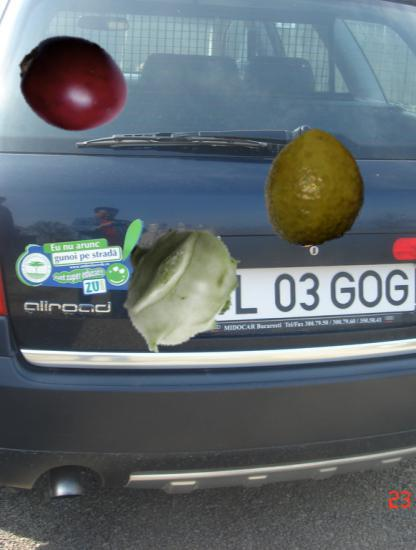Guava: (256, 129, 373, 246)
Kohlrabi: (109, 221, 244, 356)
Tamarillo: (16, 27, 131, 142)
